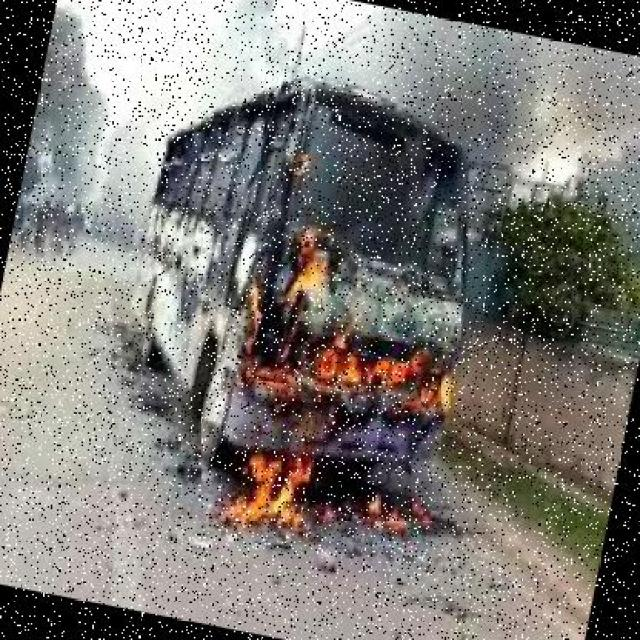fire: (198, 245, 492, 520)
